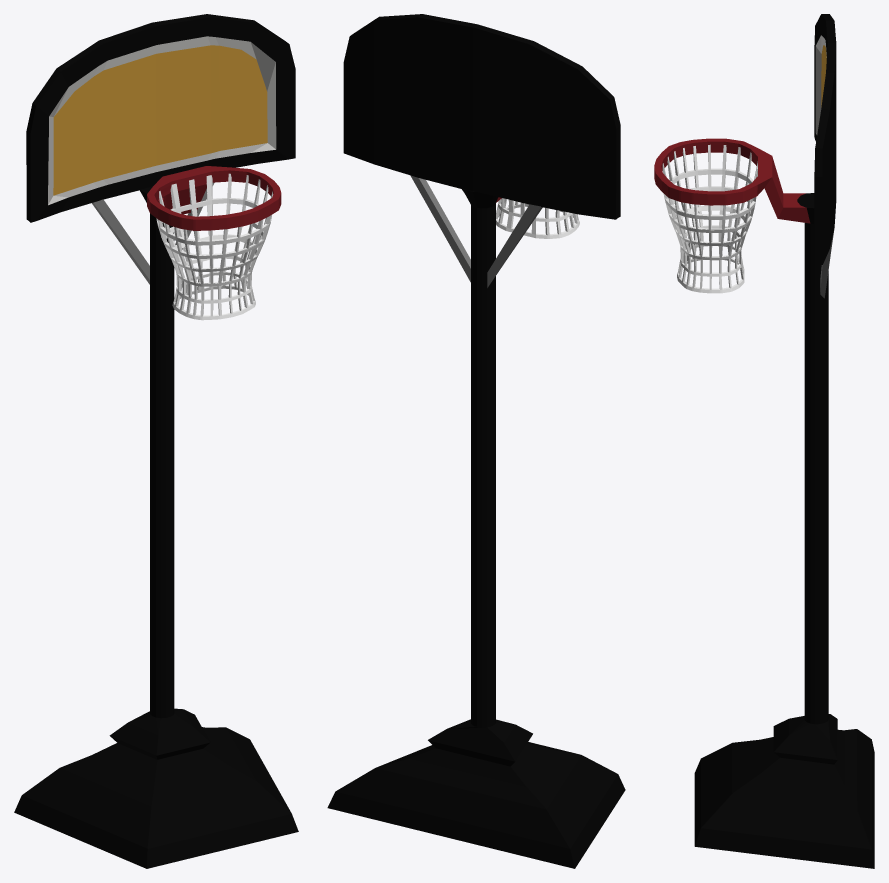
Rendered from Basketball_Hoop.fbx.
3 renders of one model, left to right at view 1: azimuth 30°, elevation 25°; view 2: azimuth 150°, elevation 25°; view 3: azimuth 270°, elevation 25°, orthographic. The views are drawn at different scales.
Parts seen in each view (by area): view 1: Cylinder; view 2: Cylinder; view 3: Cylinder.
Boxes of the visible parts, <box> form: Cylinder: <box>14,14,298,868</box>; Cylinder: <box>327,14,625,868</box>; Cylinder: <box>654,14,874,868</box>.
Bounding box in the file's own units: 420 × 1173 × 305.
